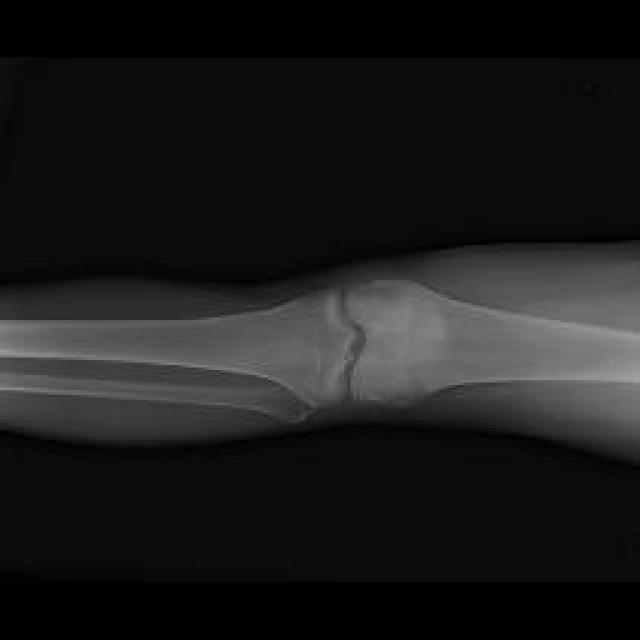normal: (0, 285, 360, 408), (347, 281, 639, 402), (0, 372, 315, 419)
